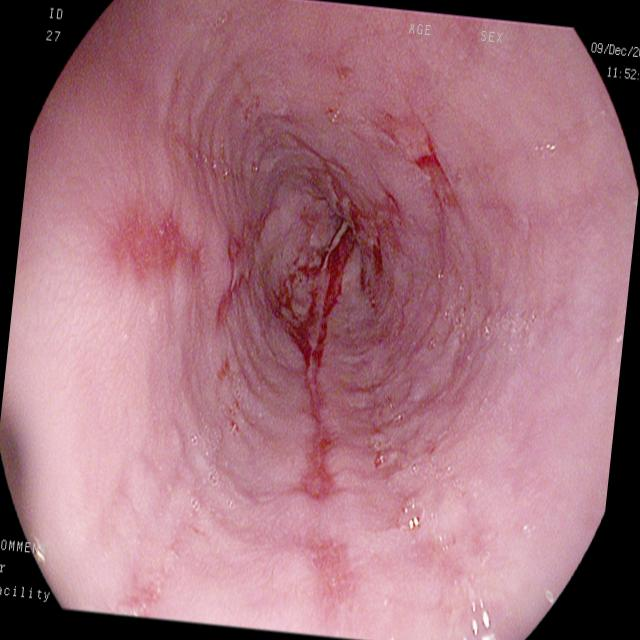esophagitis: (97, 96, 473, 508)
